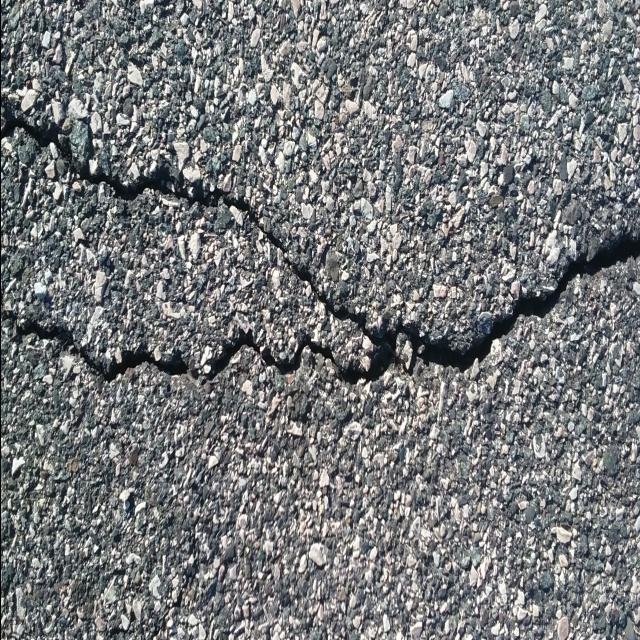Crack: (0, 94, 640, 385)
